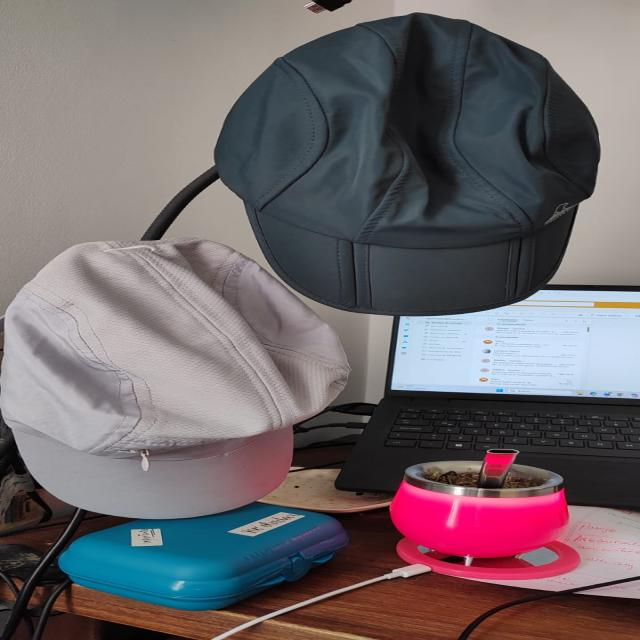Gorra: (214, 12, 602, 318), (0, 236, 363, 522)
